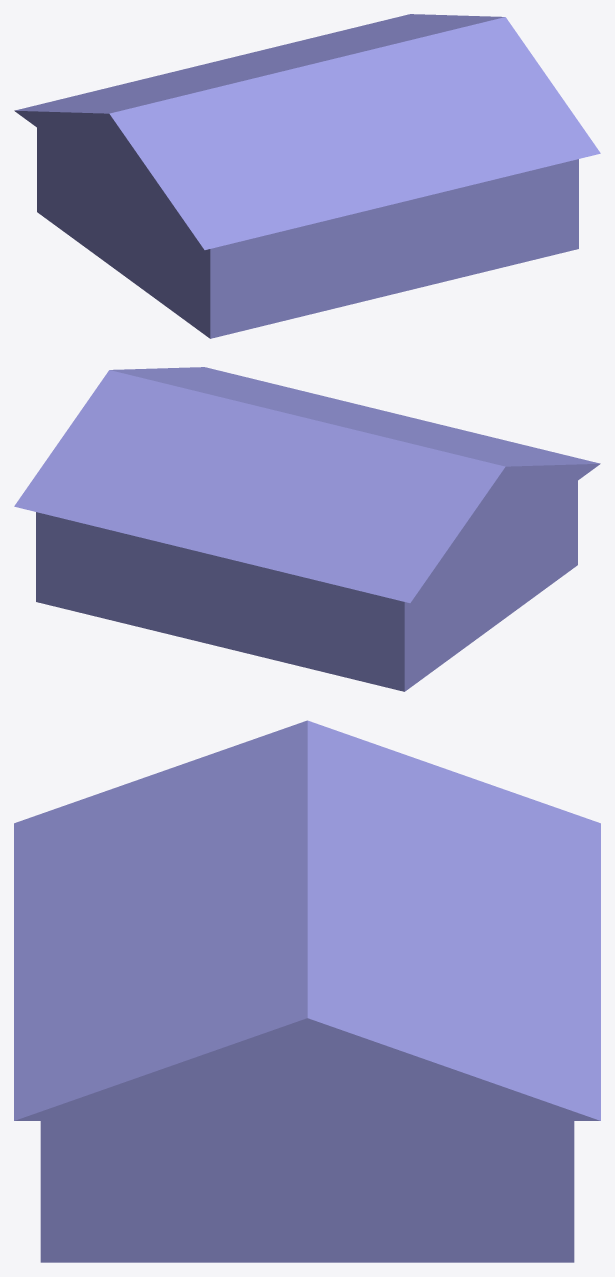
Rendered from House.fbx.
3 renders of one model, top to bottom at view 1: azimuth 30°, elevation 25°; view 2: azimuth 150°, elevation 25°; view 3: azimuth 270°, elevation 25°, orthographic. The views are drawn at different scales.
Visible parts, largest first — view 1: Cube.006; view 2: Cube.006; view 3: Cube.006.
Part boxes in pixels (x1,y1,x2,y2): Cube.006: [14, 14, 600, 338]; Cube.006: [14, 367, 600, 691]; Cube.006: [14, 720, 600, 1262].
Size of the model in its own units: 1200 by 478 by 1000.
